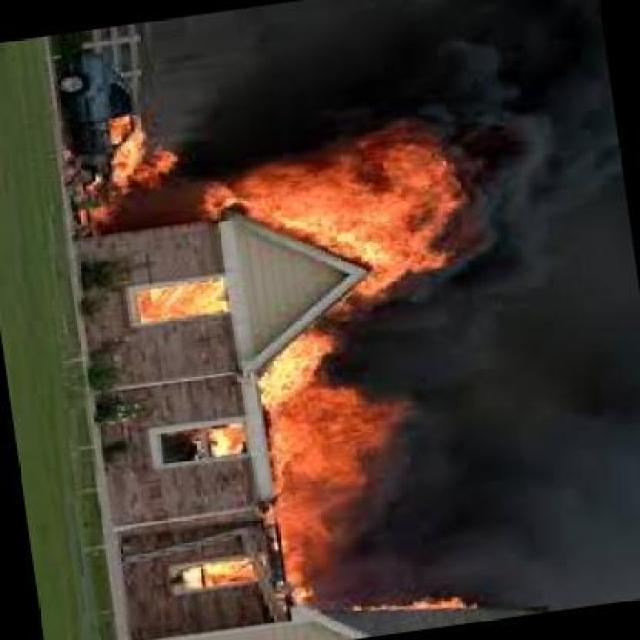Fire: (217, 142, 468, 286), (264, 386, 418, 499), (88, 115, 175, 219), (272, 505, 336, 606), (255, 326, 336, 387), (133, 274, 234, 316), (192, 420, 258, 476), (194, 546, 258, 586)
Smoke: (424, 380, 640, 614), (218, 15, 613, 136), (472, 146, 624, 378)
